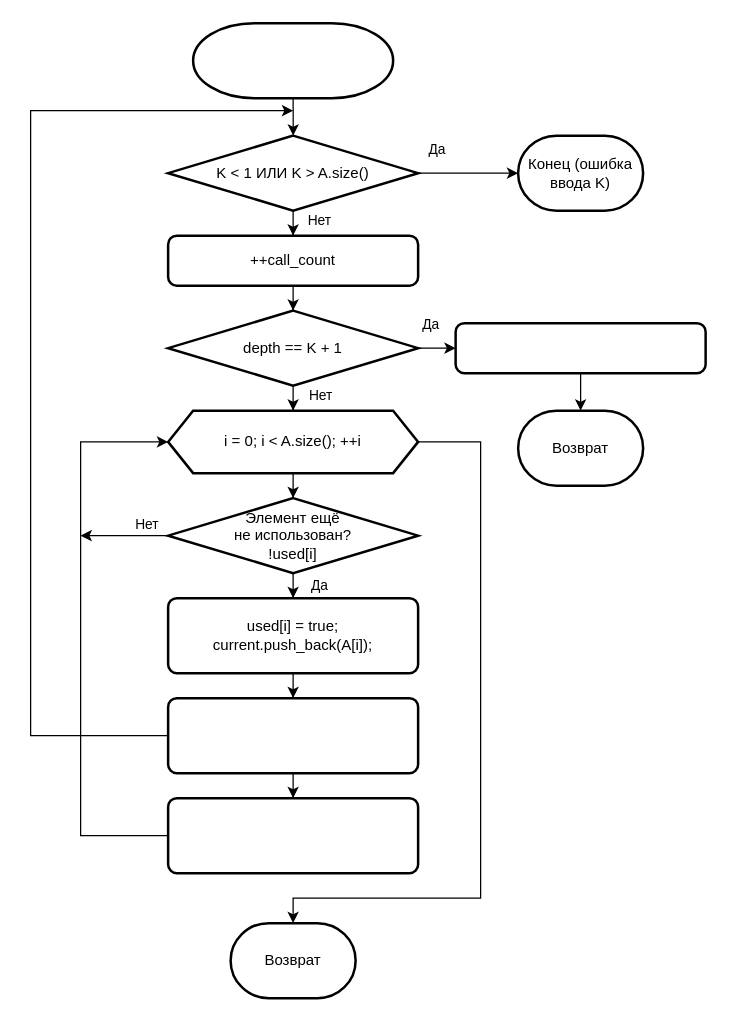
Some shapes in this 729 by 1020 pixel diagram are drawn without their labels. Each missing label, with the centre of its shape:
"calculate( A, current, used, depth, K, result, call_count )" goes at [292,60].
"calculate(A, current, used, depth + 1, K, result, call_count);" goes at [292,735].
"current.pop_back(); used[i] = false;" goes at [292,835].
"result.push_back(current);" goes at [580,347].
